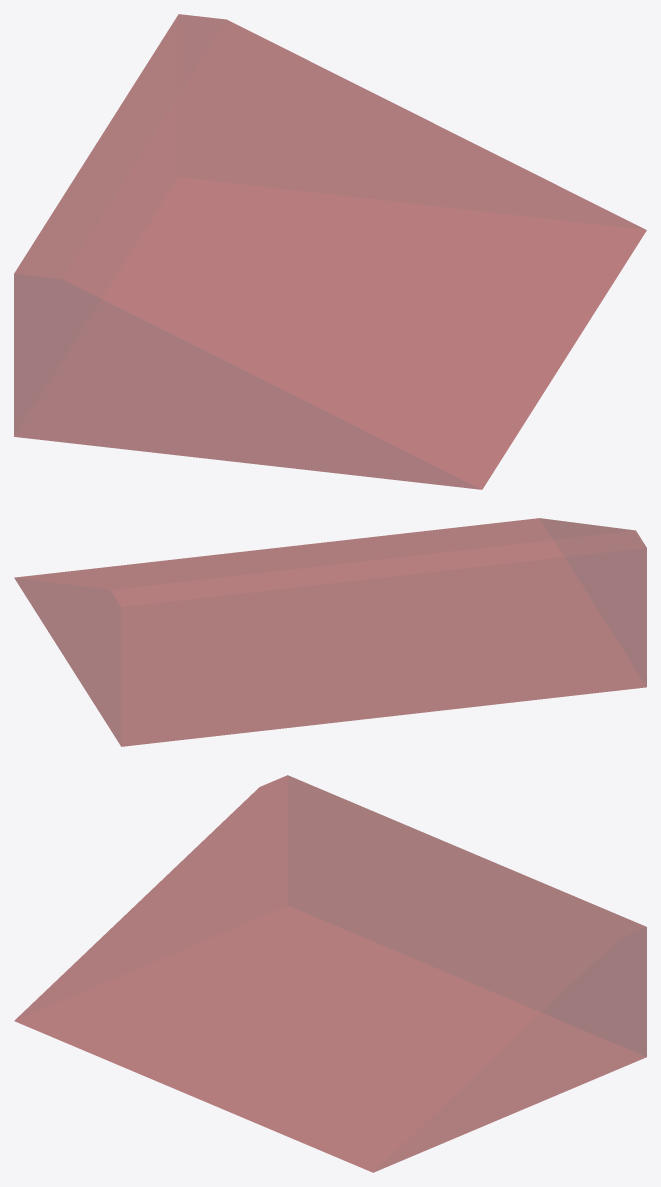
File: SM_Bld_Steps_01_Angled_Outer_01_Collision.fbx
3 renders of one model, top to bottom at view 1: azimuth 30°, elevation 25°; view 2: azimuth 150°, elevation 25°; view 3: azimuth 270°, elevation 25°, orthographic. The views are drawn at different scales.
Visible parts, largest first — view 1: SM_Bld_Steps_01_Angled_Outer_01_Collision; view 2: SM_Bld_Steps_01_Angled_Outer_01_Collision; view 3: SM_Bld_Steps_01_Angled_Outer_01_Collision.
Boxes of the visible parts, box(x1,y1,x2,y2) form: SM_Bld_Steps_01_Angled_Outer_01_Collision: box(14, 14, 646, 489); SM_Bld_Steps_01_Angled_Outer_01_Collision: box(14, 518, 646, 746); SM_Bld_Steps_01_Angled_Outer_01_Collision: box(14, 775, 646, 1172).
Size of the model in its own units: 441 by 100 by 441.
